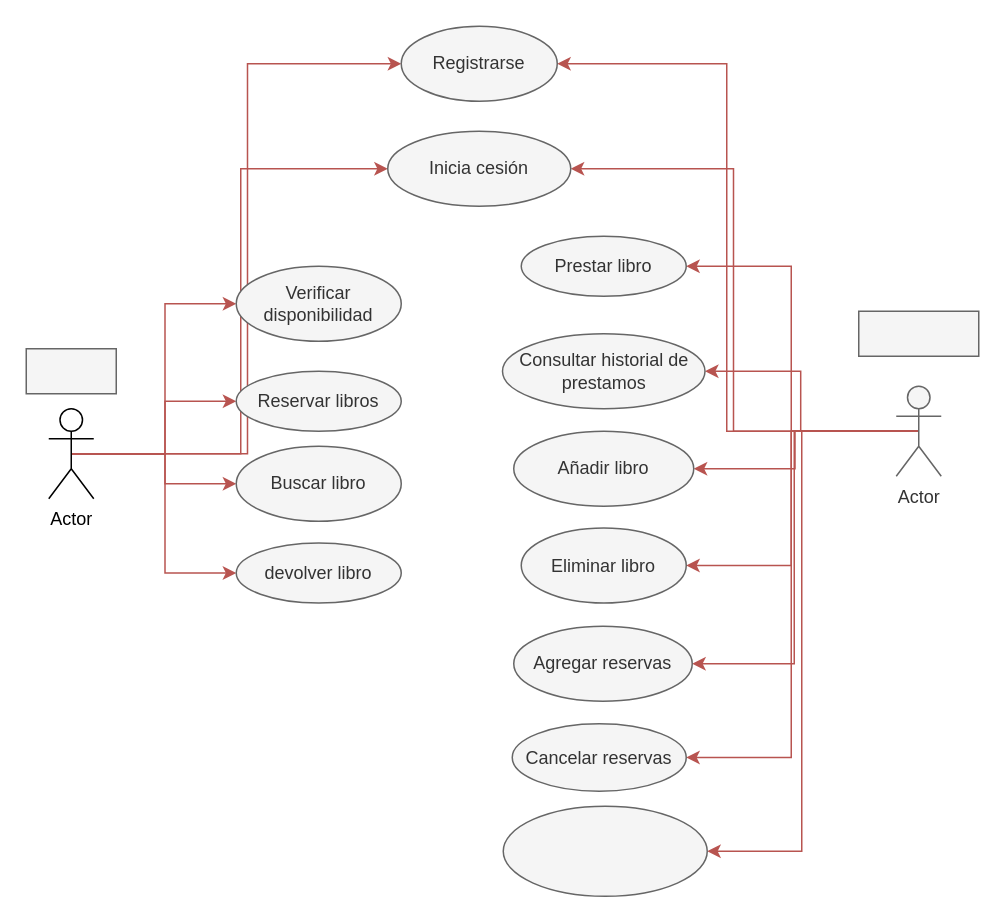
Image size: 1005x923. Some labels were removed from this diagram. The shapes that lost their labels are listed below. From the top down, each one's box as (x1, y1, x2, y2) in pixels, then its label:
(857, 310, 979, 356): Biblioteca
(25, 347, 116, 394): Usuario
(502, 805, 707, 896): Verificar del estado del libro
